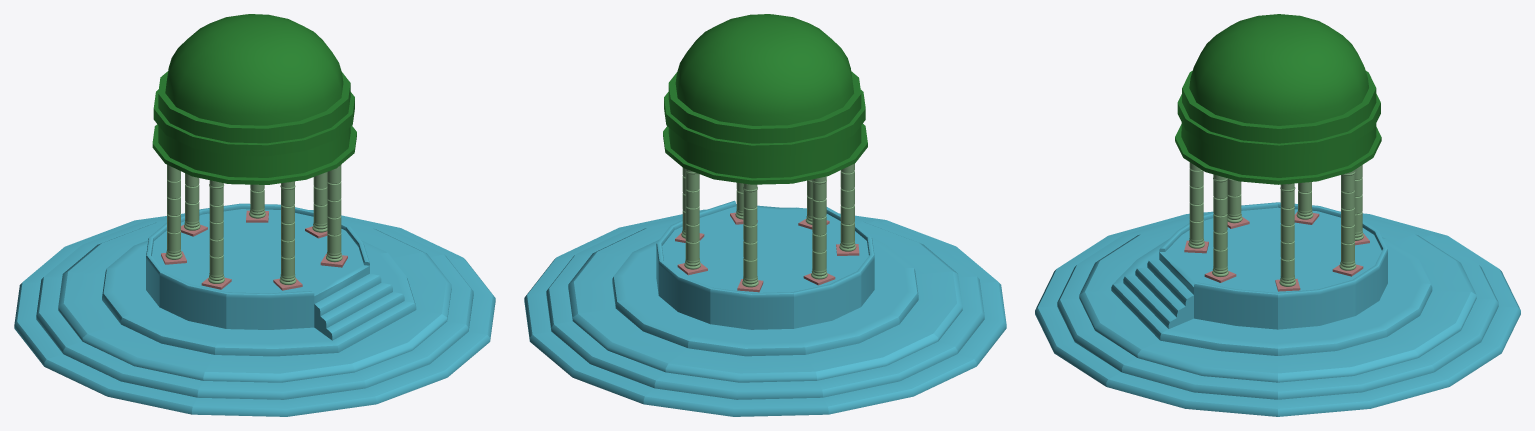
File: Templo001.fbx
3 views of the same model, side by side, from view 1: azimuth 30°, elevation 25°; view 2: azimuth 150°, elevation 25°; view 3: azimuth 270°, elevation 25° (orthographic).
Parts seen in each view (by area): view 1: Cylinder018, Cylinder013, Cylinder030, Cylinder031, Cylinder019, Cylinder029, Cylinder026, Cylinder028, Cylinder027; view 2: Cylinder018, Cylinder013, Cylinder028, Cylinder029, Cylinder027, Cylinder030; view 3: Cylinder018, Cylinder013, Cylinder026, Cylinder019, Cylinder027, Cylinder031, Cylinder030, Cylinder028, Cylinder029.
Part boxes in pixels (<box>): Cylinder018: <box>14,203,495,416</box>; Cylinder013: <box>152,14,356,184</box>; Cylinder030: <box>208,180,224,283</box>; Cylinder031: <box>279,181,296,284</box>; Cylinder019: <box>326,164,342,262</box>; Cylinder029: <box>165,164,182,259</box>; Cylinder026: <box>312,172,327,232</box>; Cylinder028: <box>184,173,200,230</box>; Cylinder027: <box>249,184,265,218</box>; Cylinder018: <box>524,200,1006,416</box>; Cylinder013: <box>663,14,867,184</box>; Cylinder028: <box>742,183,758,287</box>; Cylinder029: <box>811,176,827,279</box>; Cylinder027: <box>684,169,700,269</box>; Cylinder030: <box>839,163,856,251</box>; Cylinder018: <box>1035,202,1520,416</box>; Cylinder013: <box>1175,14,1381,184</box>; Cylinder026: <box>1279,183,1295,286</box>; Cylinder019: <box>1212,174,1228,276</box>; Cylinder027: <box>1339,170,1356,270</box>; Cylinder031: <box>1188,162,1204,248</box>; Cylinder030: <box>1227,178,1242,223</box>; Cylinder028: <box>1355,165,1363,240</box>; Cylinder029: <box>1296,182,1313,219</box>.
Bounding box in the file's own units: 2075 × 1357 × 2075.
